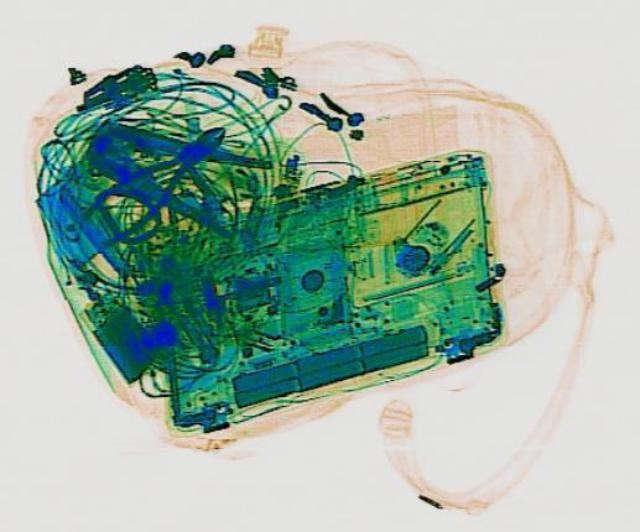Pliers: (63, 98, 285, 239), (62, 112, 246, 251)
